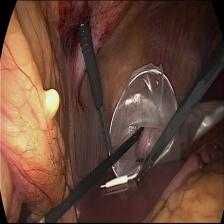Grasper: (98, 106, 116, 160), (132, 155, 156, 184)
Specimen Bag: (107, 63, 218, 189)
